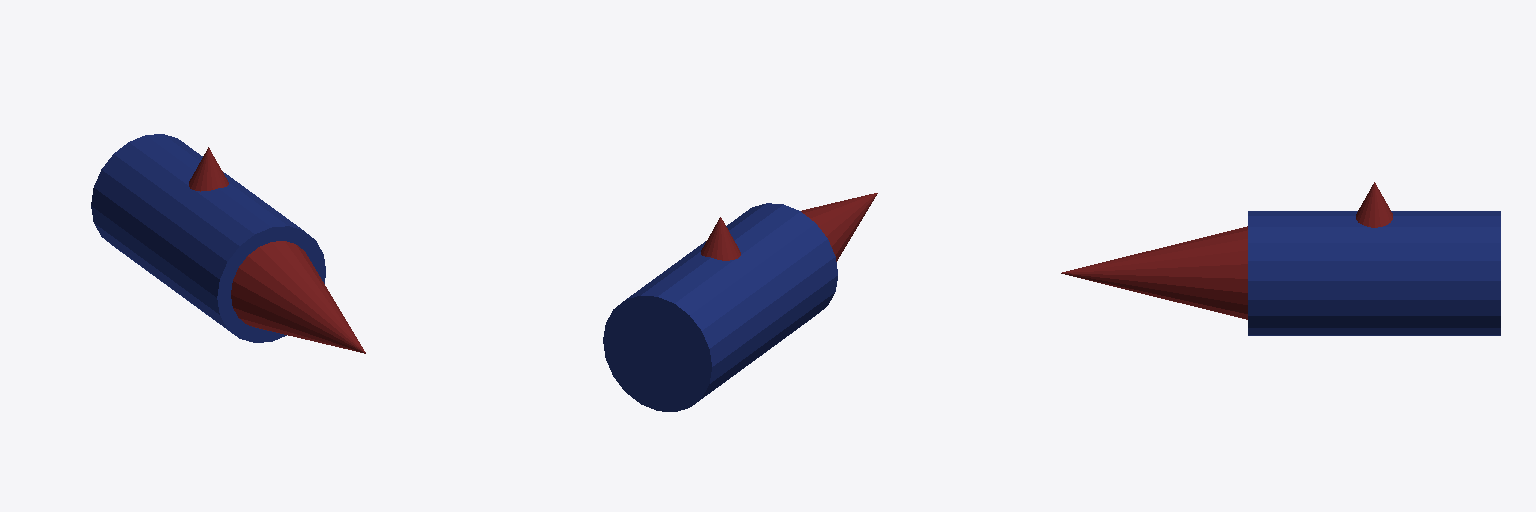
File: testWeapon.obj
The picture shows the model from 3 angles: view 1: azimuth 30°, elevation 25°; view 2: azimuth 150°, elevation 25°; view 3: azimuth 270°, elevation 25°; orthographic projection.
Visible parts, largest first — view 1: pCylinder1, pCylinder1 pCone1, pCylinder1 pCone2; view 2: pCylinder1, pCylinder1 pCone1, pCylinder1 pCone2; view 3: pCylinder1, pCylinder1 pCone1, pCylinder1 pCone2.
Part boxes in pixels (bbox=[...]): pCylinder1: bbox=[91, 134, 325, 342]; pCylinder1 pCone1: bbox=[231, 241, 365, 353]; pCylinder1 pCone2: bbox=[189, 147, 228, 191]; pCylinder1: bbox=[603, 203, 837, 411]; pCylinder1 pCone1: bbox=[801, 193, 877, 261]; pCylinder1 pCone2: bbox=[701, 217, 740, 260]; pCylinder1: bbox=[1248, 211, 1500, 335]; pCylinder1 pCone1: bbox=[1061, 226, 1247, 319]; pCylinder1 pCone2: bbox=[1356, 182, 1392, 227].
Size of the model in its own units: 1 by 1.3 by 3.5.